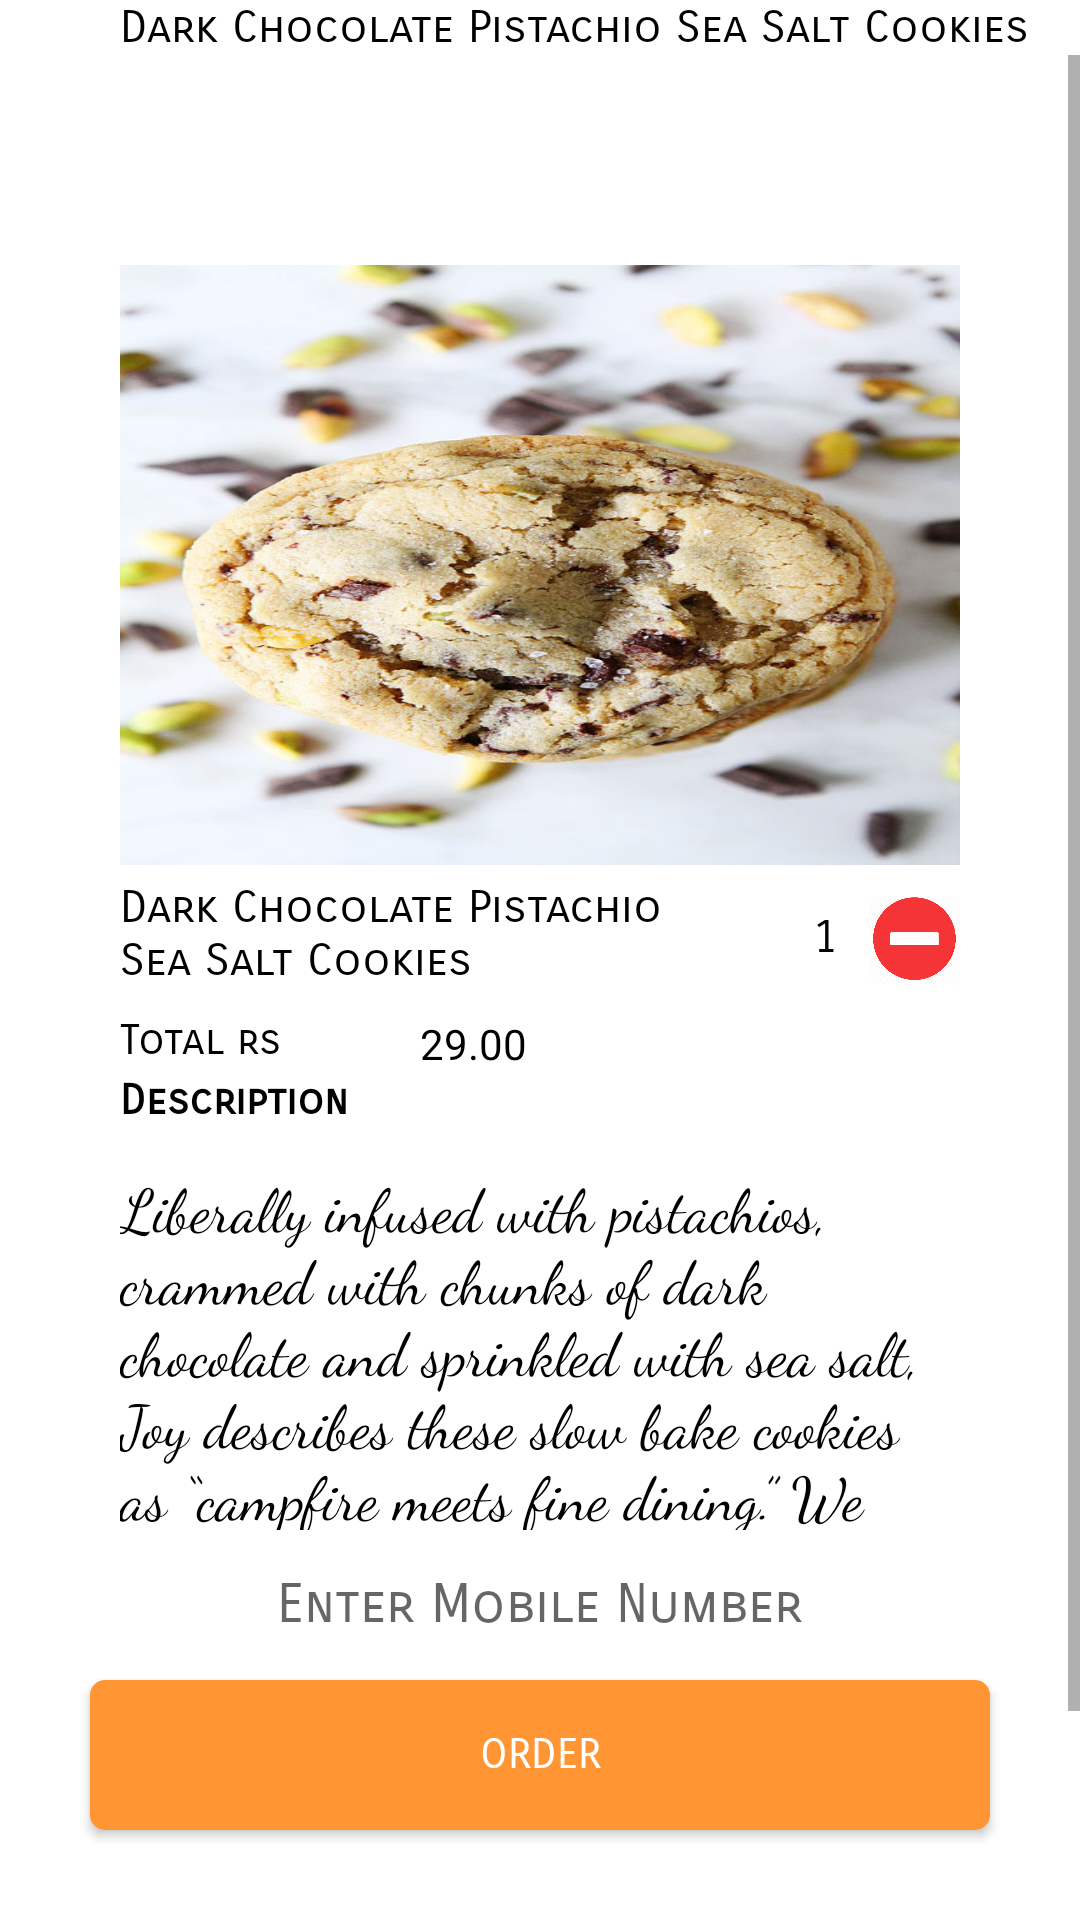

Point at icon controls on the screen. Image size 1080px×1920px, points as point (x, y).
minus: point (914, 938)
